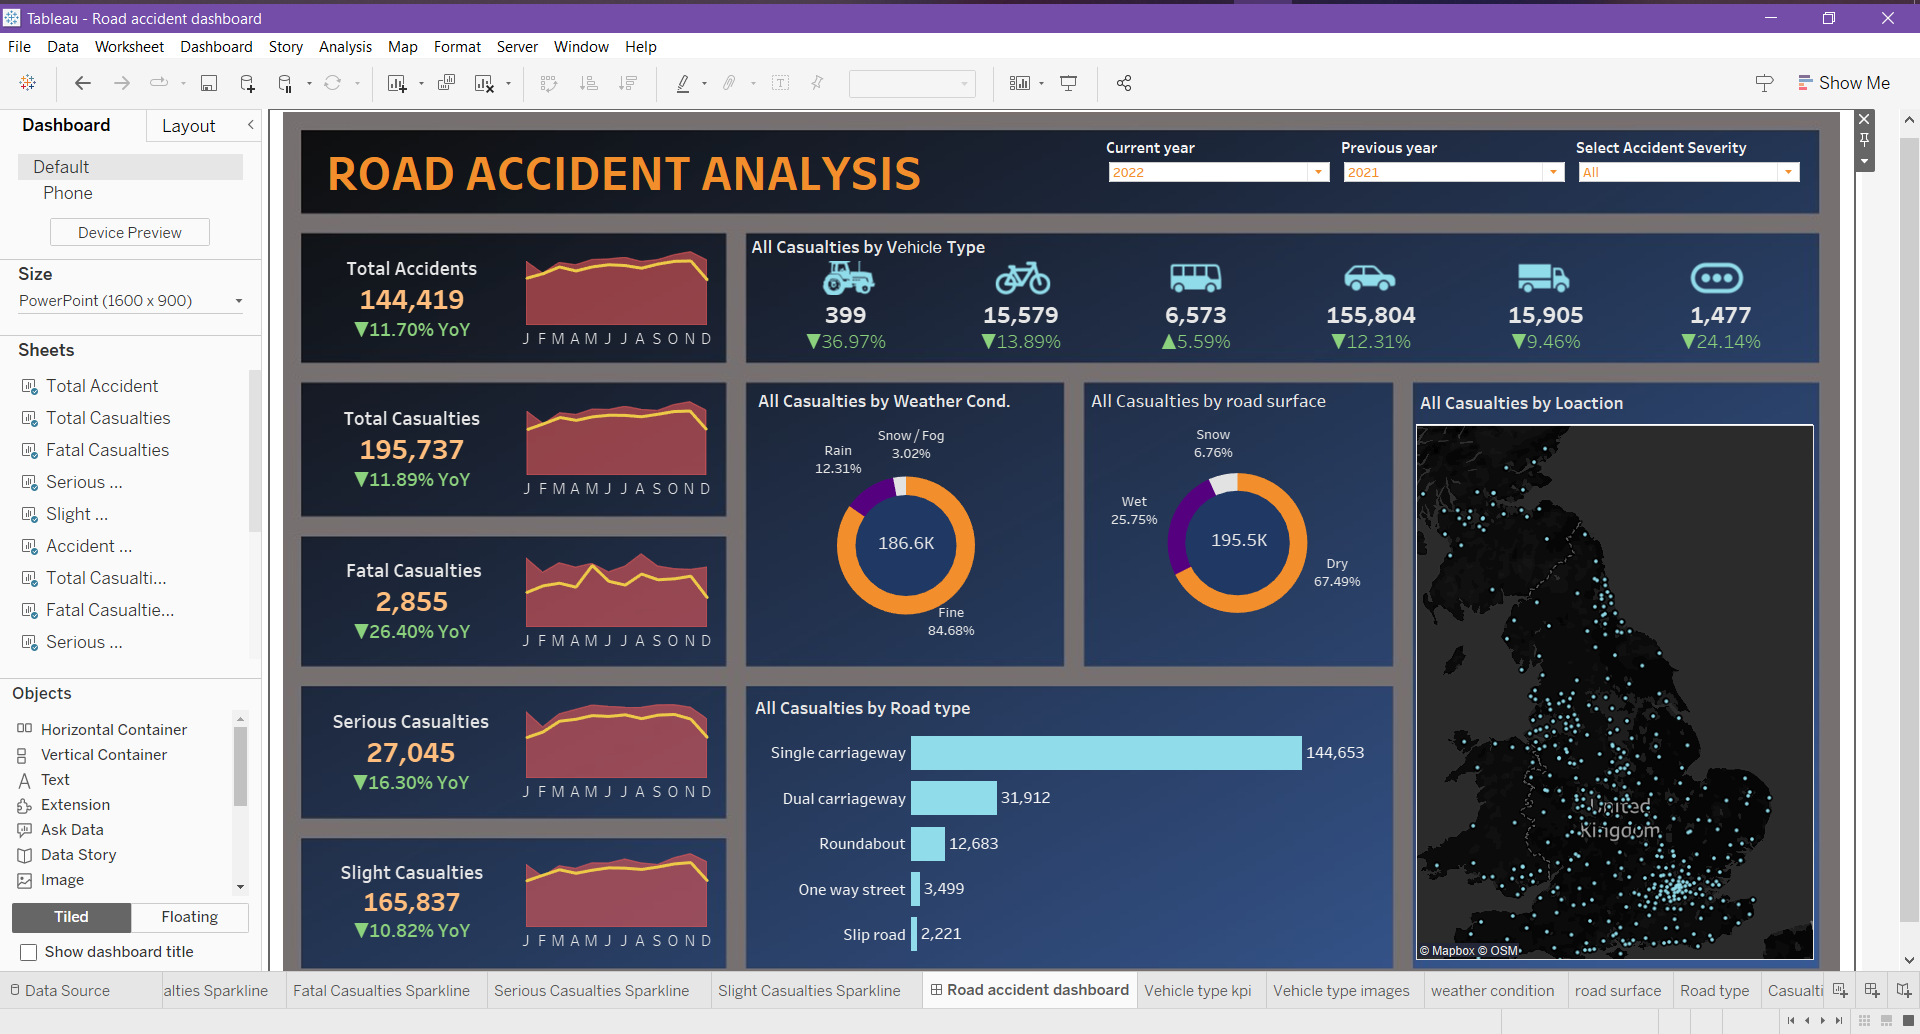

The dashboard page shown, as its layout file describes it:
{"tool":"tableau","page":{"name":"Road accident dashboard","canvas":[1600,900],"ordinal":0},"visuals":[{"type":"image","param":"C:/Users/Administrator/Desktop/Road_accident/Tableau/Background road accident.jp","box":[8,8,1584,884]},{"type":"text","box":[40,32,644,78]},{"type":"parameter","param":"[Parameters].[Parameter 1]","box":[840,33,235,76]},{"type":"parameter","param":"[Parameters].[Current year (copy)_1005710138212483073]","box":[1075,33,235,76]},{"type":"parameter","param":"[Parameters].[Parameter 2]","box":[1310,33,235,76]},{"type":"text","box":[486,136,533,21]},{"type":"worksheet","title":"Total Accident","mark":"Automatic","box":[47,144,205,110]},{"type":"worksheet","title":"Accident Sparkline","mark":"Automatic","rows":["CY Accident (copy)_1005710138213654531","Calculation_1005710138212945922"],"cols":["Accident Date"],"box":[252,144,205,110]},{"type":"worksheet","title":"Vehicle type images","mark":"Shape","box":[496,157,1050,38]},{"type":"worksheet","title":"Vehicle type kpi","mark":"Automatic","box":[496,195,1050,62]},{"type":"worksheet","title":"weather condition","mark":"Pie","rows":["Calculation_978407065821134849","Calculation_978407065821179907"],"box":[492,284,304,284]},{"type":"worksheet","title":"road surface","mark":"Pie","rows":["Calculation_978407065821134849","Calculation_978407065821179907"],"box":[825,284,301,279]},{"type":"worksheet","title":"Casualties by Location","mark":"Automatic","rows":["Latitude"],"cols":["Longitude"],"box":[1154,286,398,574]},{"type":"worksheet","title":"Total Casualties","mark":"Automatic","box":[46,294,207,110]},{"type":"worksheet","title":"Total Casualties Sparkline","mark":"Automatic","rows":["CY Casualties (copy)_1005710138225369094","Calculation_1005710138224488453"],"cols":["Accident Date"],"box":[253,294,202.9,110]},{"type":"worksheet","title":"Fatal Casualties","mark":"Automatic","box":[47,446,205,110]},{"type":"worksheet","title":"Fatal Casualties Sparkline","mark":"Automatic","rows":["CY Fatal Casualties (copy)_1005710138231128075","Calculation_1005710138230161418"],"cols":["Accident Date"],"box":[252,446,205,110]},{"type":"worksheet","title":"Road type","mark":"Automatic","rows":["Road_Type"],"cols":["Calculation_1005710138224488453"],"box":[489,591,638,266]},{"type":"worksheet","title":"Serious Casualties ","mark":"Automatic","box":[47,597,205,110]},{"type":"worksheet","title":"Serious Casualties Sparkline ","mark":"Automatic","rows":["PY Fatal Casualties (copy)_1005710138231758861","CY Fatal Casualties (copy)_1005710138232258574"],"cols":["Accident Date"],"box":[252,597,205,110]},{"type":"worksheet","title":"Slight Casualties","mark":"Automatic","box":[47,746,205,110]},{"type":"worksheet","title":"Slight Casualties Sparkline ","mark":"Automatic","rows":["PY Serious Casualties  (copy)_1005710138233643026","CY Serious Casualties (copy)_1005710138233532433"],"cols":["Accident Date"],"box":[252,746,205,110]}]}

Visuals, with their boxes on the page's 1600x900 design canvas (x1, y1, x2, y2). These are canvas units, not pixel positions in the 1920x1034 screenshot, which may show the page scaled, cropped or inside an application window:
image: detection(8, 8, 1592, 892)
text: detection(40, 32, 684, 110)
parameter: detection(840, 33, 1075, 109)
parameter: detection(1075, 33, 1310, 109)
parameter: detection(1310, 33, 1545, 109)
text: detection(486, 136, 1019, 157)
"Total Accident" worksheet: detection(47, 144, 252, 254)
"Accident Sparkline" worksheet: detection(252, 144, 457, 254)
"Vehicle type images" worksheet (Shape marks): detection(496, 157, 1546, 195)
"Vehicle type kpi" worksheet: detection(496, 195, 1546, 257)
"weather condition" worksheet (Pie marks): detection(492, 284, 796, 568)
"road surface" worksheet (Pie marks): detection(825, 284, 1126, 563)
"Casualties by Location" worksheet: detection(1154, 286, 1552, 860)
"Total Casualties" worksheet: detection(46, 294, 253, 404)
"Total Casualties Sparkline" worksheet: detection(253, 294, 456, 404)
"Fatal Casualties" worksheet: detection(47, 446, 252, 556)
"Fatal Casualties Sparkline" worksheet: detection(252, 446, 457, 556)
"Road type" worksheet: detection(489, 591, 1127, 857)
"Serious Casualties " worksheet: detection(47, 597, 252, 707)
"Serious Casualties Sparkline " worksheet: detection(252, 597, 457, 707)
"Slight Casualties" worksheet: detection(47, 746, 252, 856)
"Slight Casualties Sparkline " worksheet: detection(252, 746, 457, 856)
